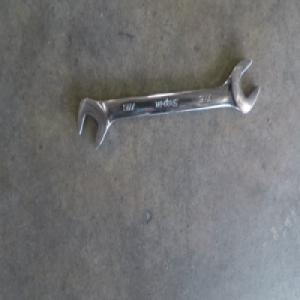Wrench: (77, 59, 260, 150)
